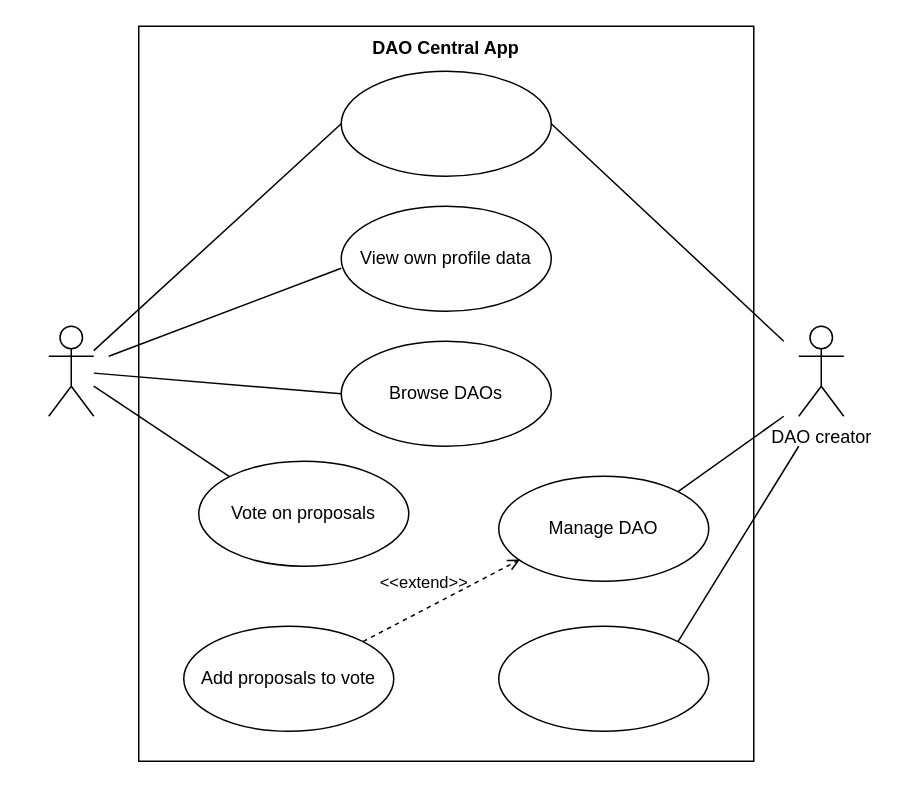
Image size: 897x788. Some labels were removed from this diagram. Each missing label, with the box of its shape:
Community: (47, 325, 94, 416)
Create DAO: (497, 625, 709, 731)
Log in with crypto wallet: (340, 70, 551, 176)
